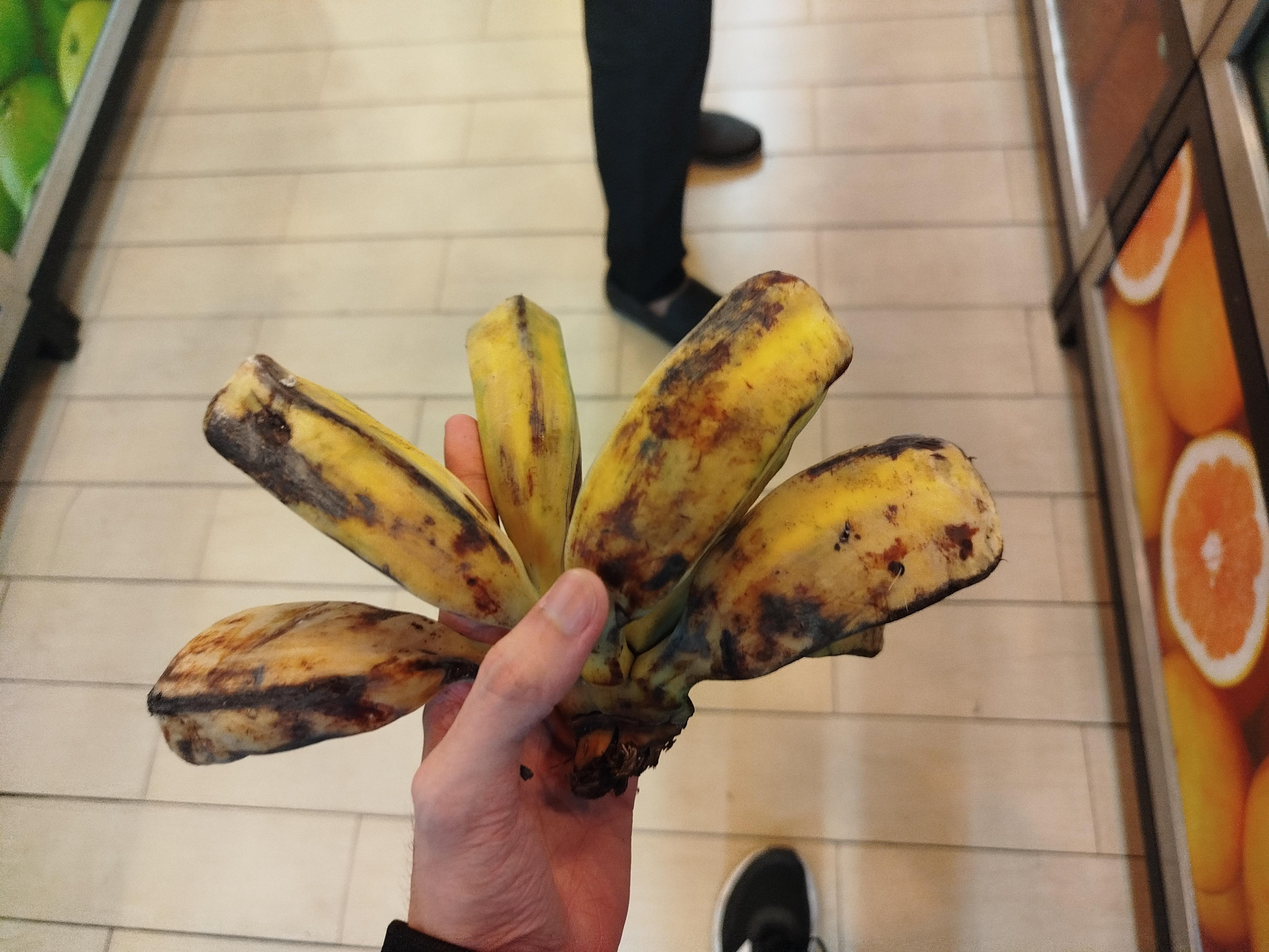ripe: (205, 270, 1003, 678)
